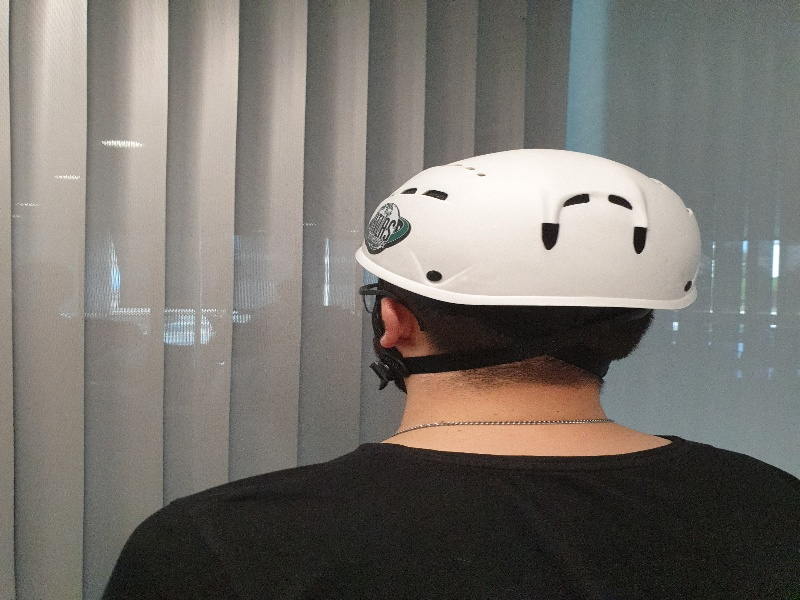Baret: (358, 149, 702, 314)
